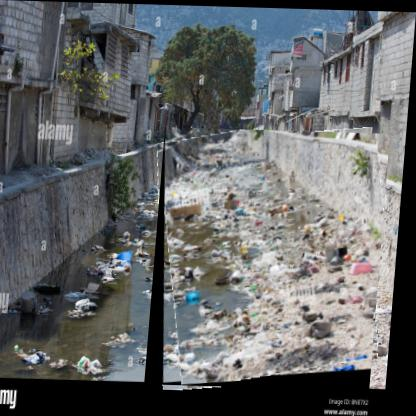Garbage: (152, 127, 394, 391)
